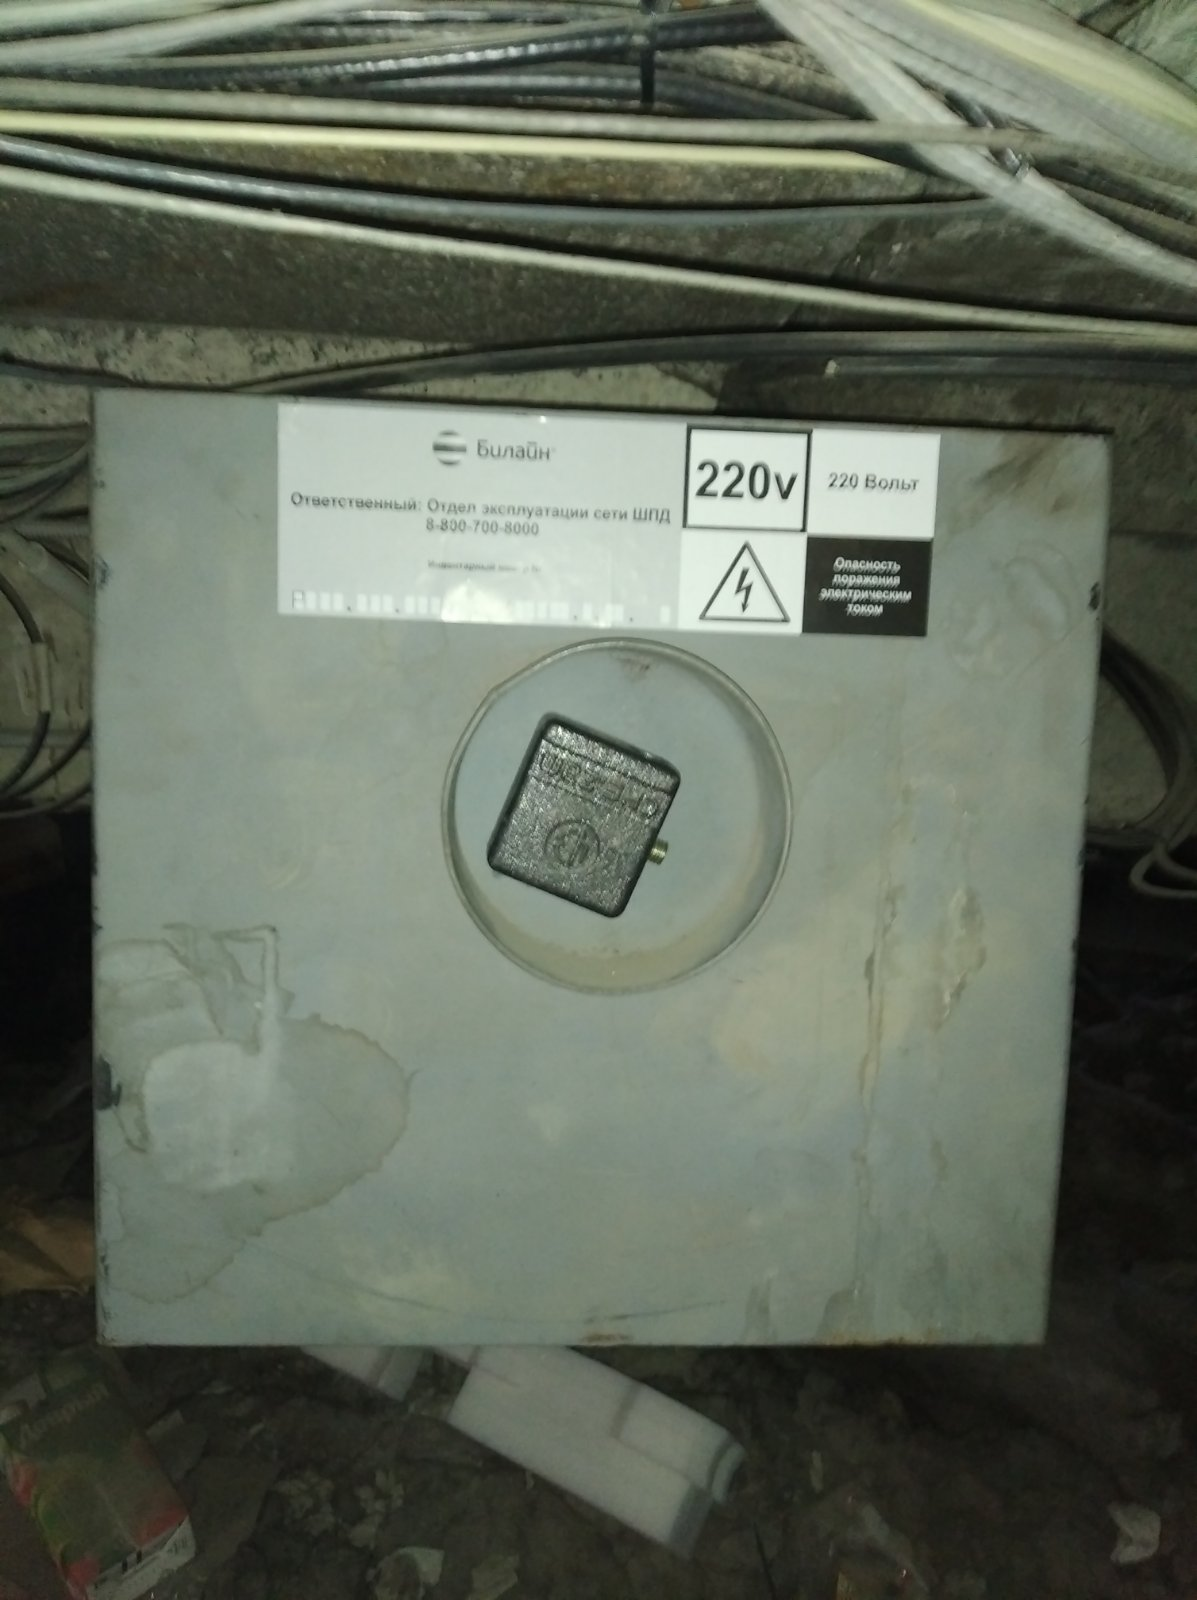shta-9: (62, 349, 1125, 1373)
